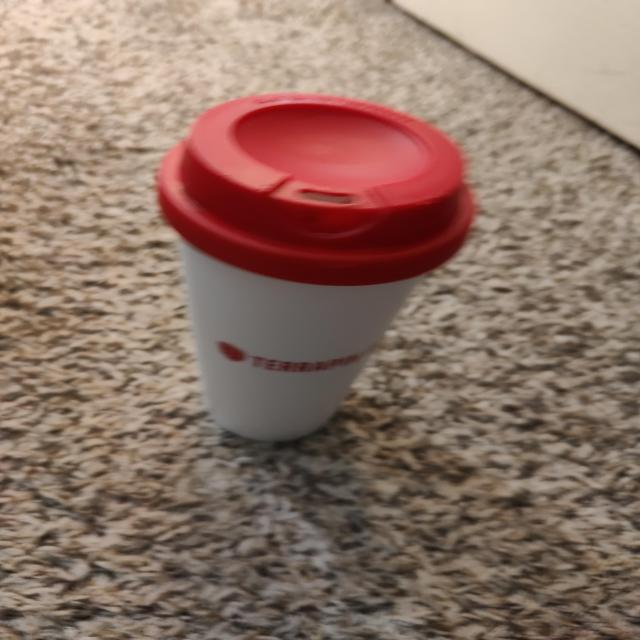mug: (158, 98, 467, 442)
